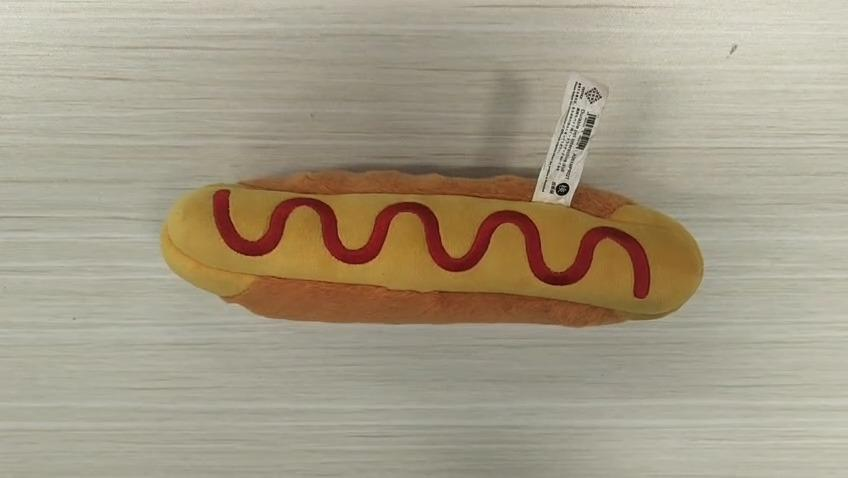hotdog: (160, 167, 704, 327)
